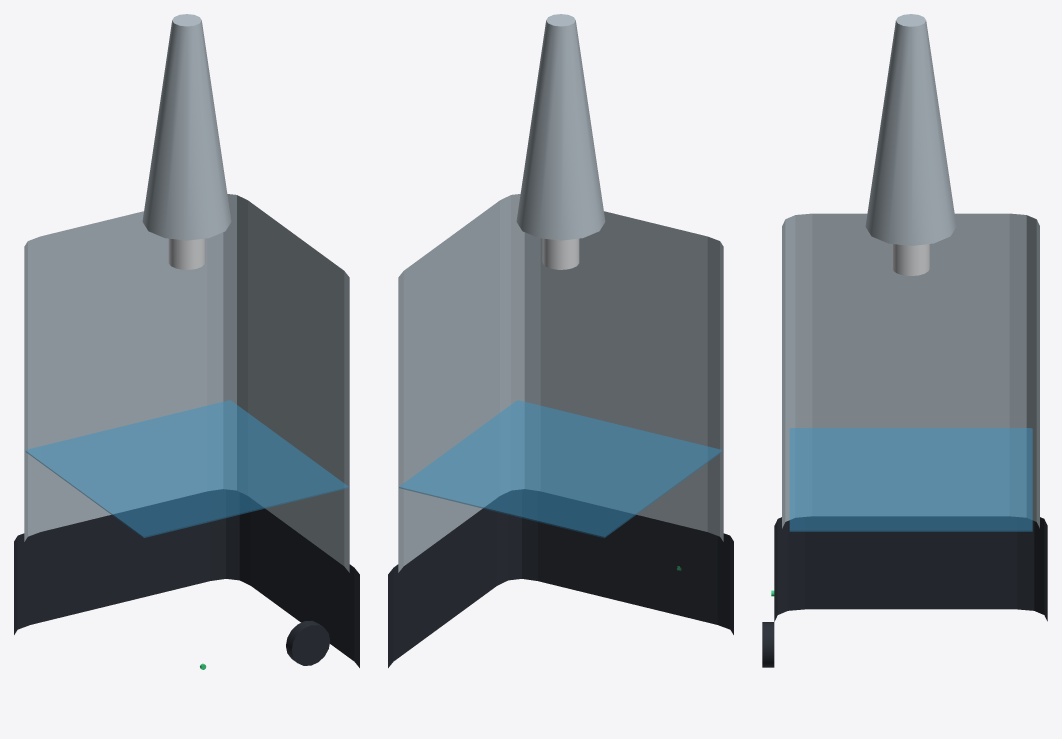
File: humidifier-ultrasonic-4l.glb
3 views of the same model, side by side, from view 1: azimuth 30°, elevation 25°; view 2: azimuth 150°, elevation 25°; view 3: azimuth 270°, elevation 25° (orthographic). The views are drawn at different scales.
Parts seen in each view (by area): view 1: hum_tank, hum_base, hum_tank_water, mist_plume, hum_dial, hum_nozzle; view 2: hum_tank, hum_base, hum_tank_water, mist_plume, hum_nozzle, hum_dial; view 3: hum_tank, hum_base, hum_tank_water, mist_plume, hum_nozzle, hum_dial.
Boxes of the visible parts, x1,y1,x2,y2 form: hum_tank: (24, 194, 349, 572); hum_base: (14, 489, 359, 667); hum_tank_water: (25, 400, 348, 537); mist_plume: (142, 14, 231, 240); hum_dial: (286, 620, 330, 665); hum_nozzle: (168, 238, 205, 269); hum_tank: (398, 194, 723, 572); hum_base: (388, 489, 733, 667); hum_tank_water: (399, 400, 722, 537); mist_plume: (516, 14, 605, 240); hum_nozzle: (542, 238, 579, 269); hum_dial: (557, 523, 595, 563); hum_tank: (782, 213, 1039, 528); hum_base: (774, 516, 1047, 621); hum_tank_water: (789, 428, 1032, 531); mist_plume: (865, 14, 956, 245); hum_nozzle: (892, 244, 929, 275); hum_dial: (762, 622, 774, 667).
Size of the model in its own units: 0.18 by 0.47 by 0.188.
